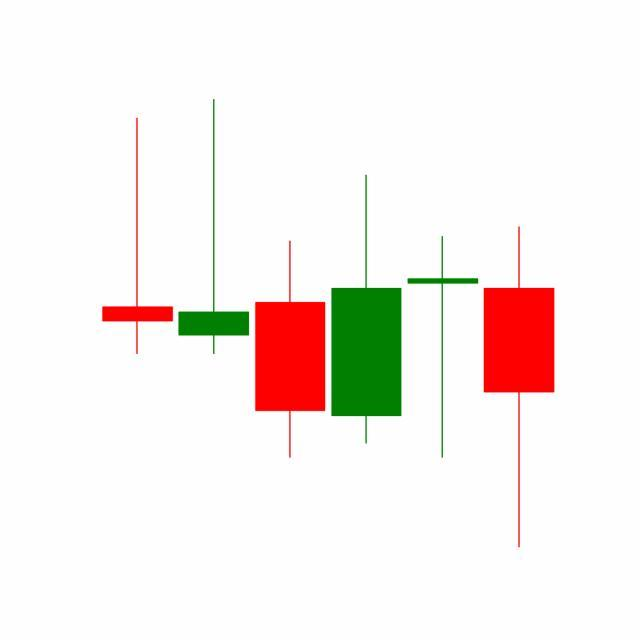Evening Doji Star: (326, 170, 555, 548)
